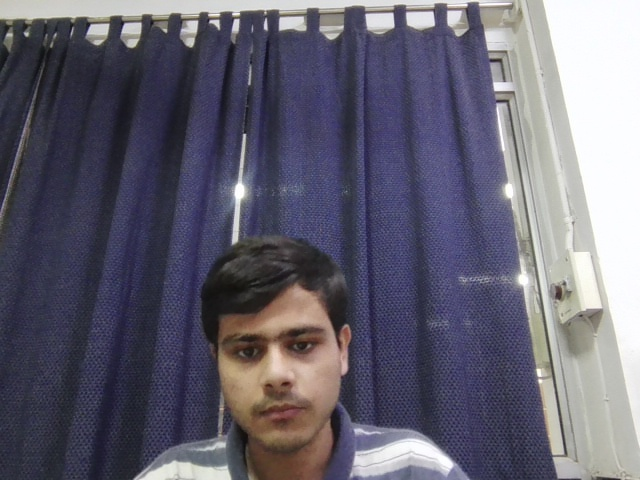face: (200, 237, 353, 452)
